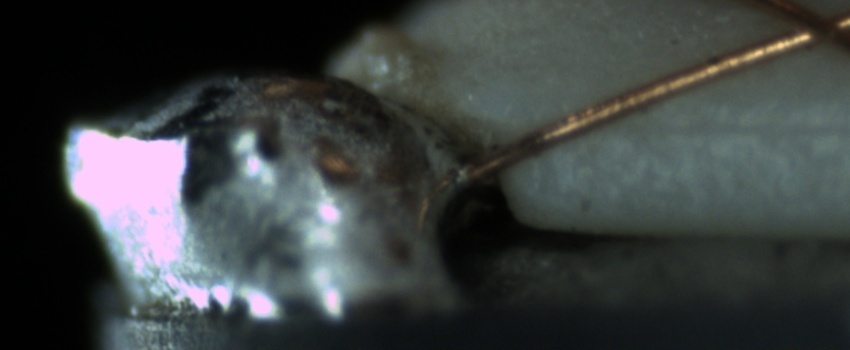CL: (762, 2, 848, 56)
DL: (613, 93, 845, 160)
